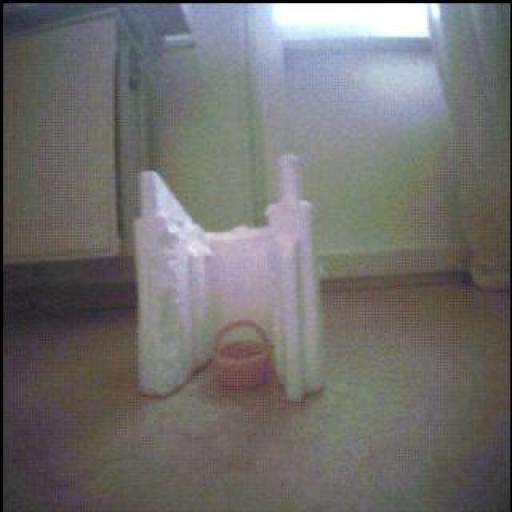Basket: (214, 321, 273, 390)
